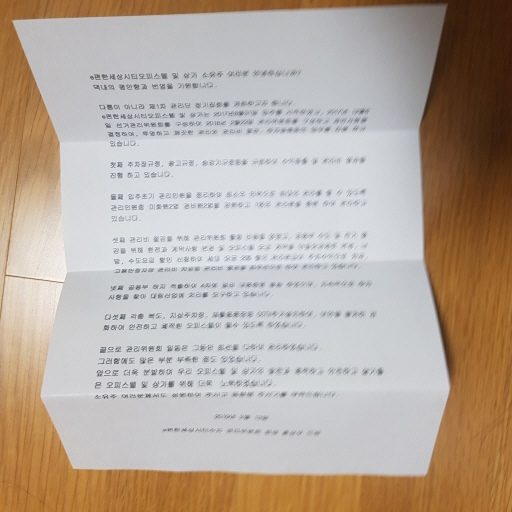Paper_3: (4, 4, 467, 495)
